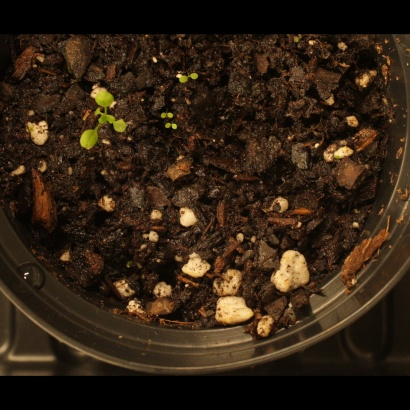leaf: (78, 127, 104, 157), (144, 94, 167, 121), (191, 67, 214, 90), (170, 67, 193, 90), (173, 121, 196, 144), (150, 121, 173, 144), (169, 99, 192, 122), (113, 120, 136, 143), (96, 85, 119, 108)
